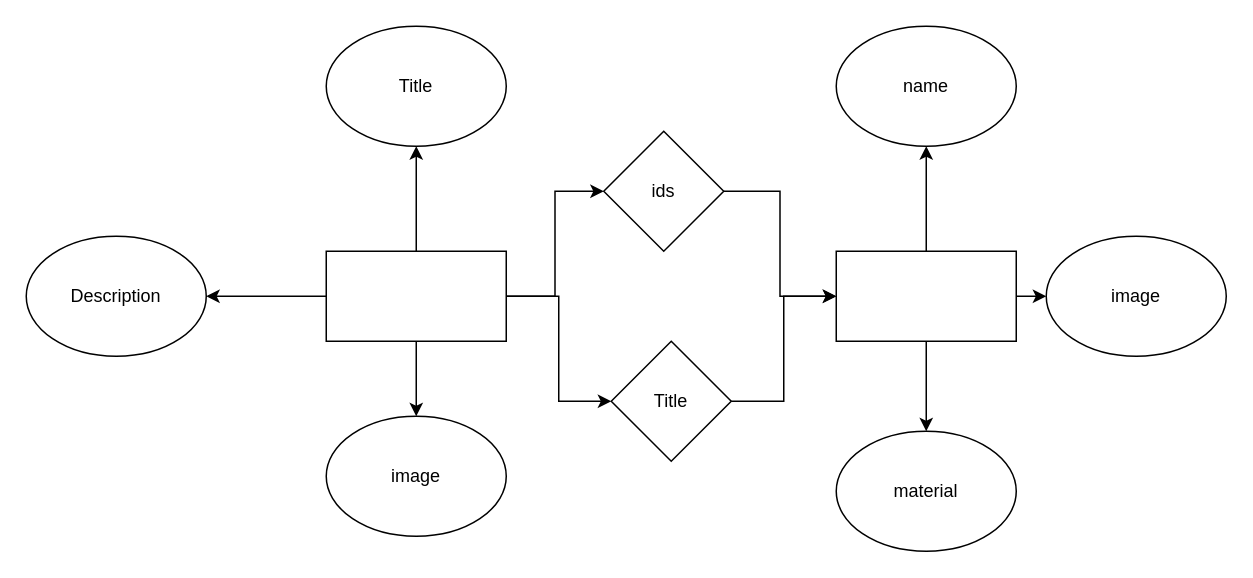
This 1253x578 diagram has some shape labels left out. Each missing label, with the centre of its shape:
Product Line: [415,295]
Products: [925,295]
